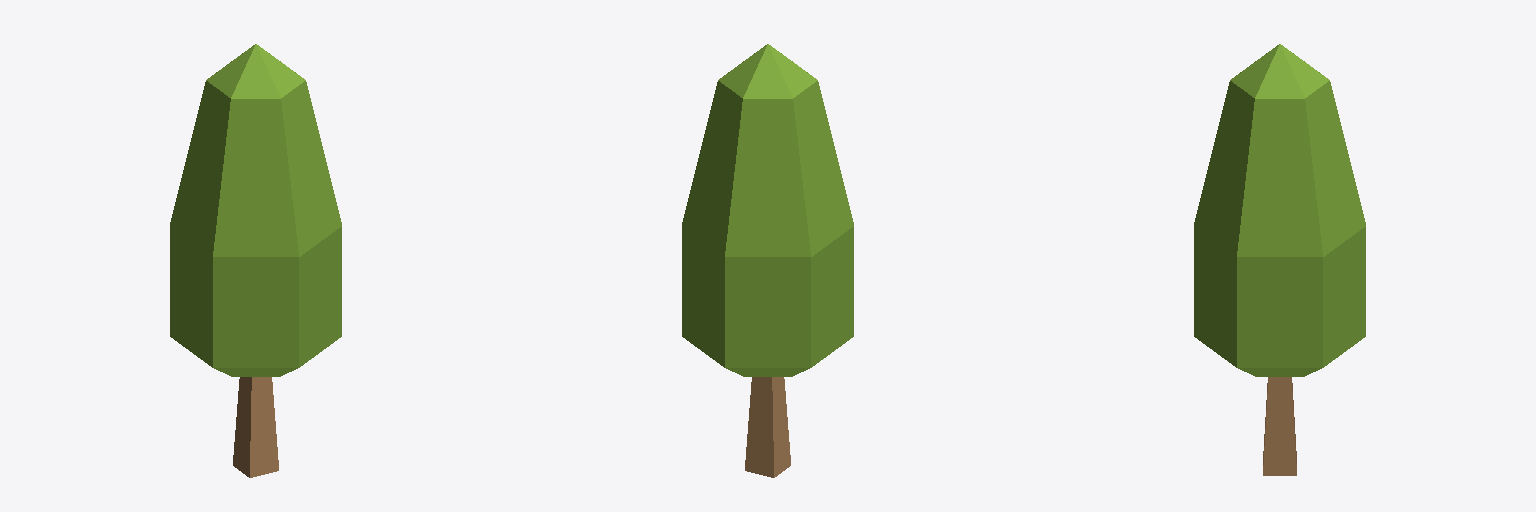
3 renders of one model, left to right at view 1: azimuth 30°, elevation 25°; view 2: azimuth 150°, elevation 25°; view 3: azimuth 270°, elevation 25°, orthographic.
Parts seen in each view (by area): view 1: roadTile_019.001; view 2: roadTile_019.001; view 3: roadTile_019.001.
Part boxes in pixels (bbox=[...]): roadTile_019.001: bbox=[170, 44, 341, 477]; roadTile_019.001: bbox=[682, 44, 853, 477]; roadTile_019.001: bbox=[1194, 44, 1365, 475].
Bounding box in the file's own units: 0.8086 × 2.53 × 0.9337.